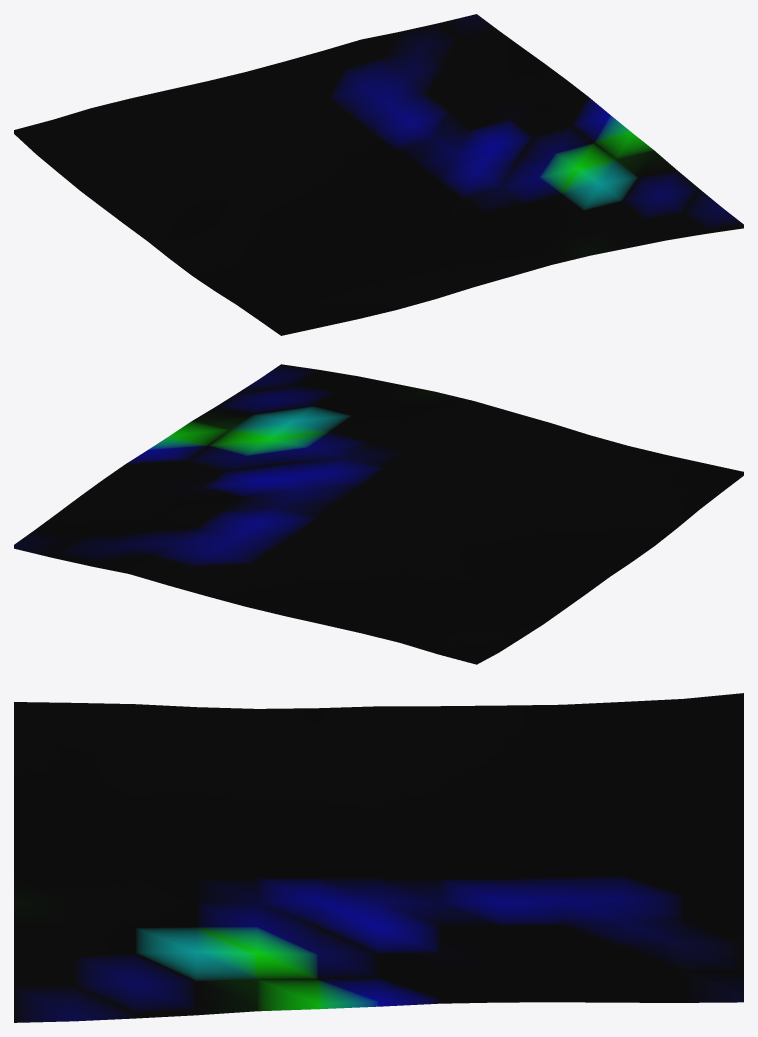
File: coast_5_5.glb
3 renders of one model, top to bottom at view 1: azimuth 30°, elevation 25°; view 2: azimuth 150°, elevation 25°; view 3: azimuth 270°, elevation 25°, orthographic. The views are drawn at different scales.
Parts seen in each view (by area): view 1: terrain; view 2: terrain; view 3: terrain.
Boxes of the visible parts, x1,y1,x2,y2 form: terrain: [14, 14, 743, 335]; terrain: [14, 364, 743, 664]; terrain: [14, 693, 743, 1022].
Bounding box in the file's own units: 192 × 8.5 × 192.
